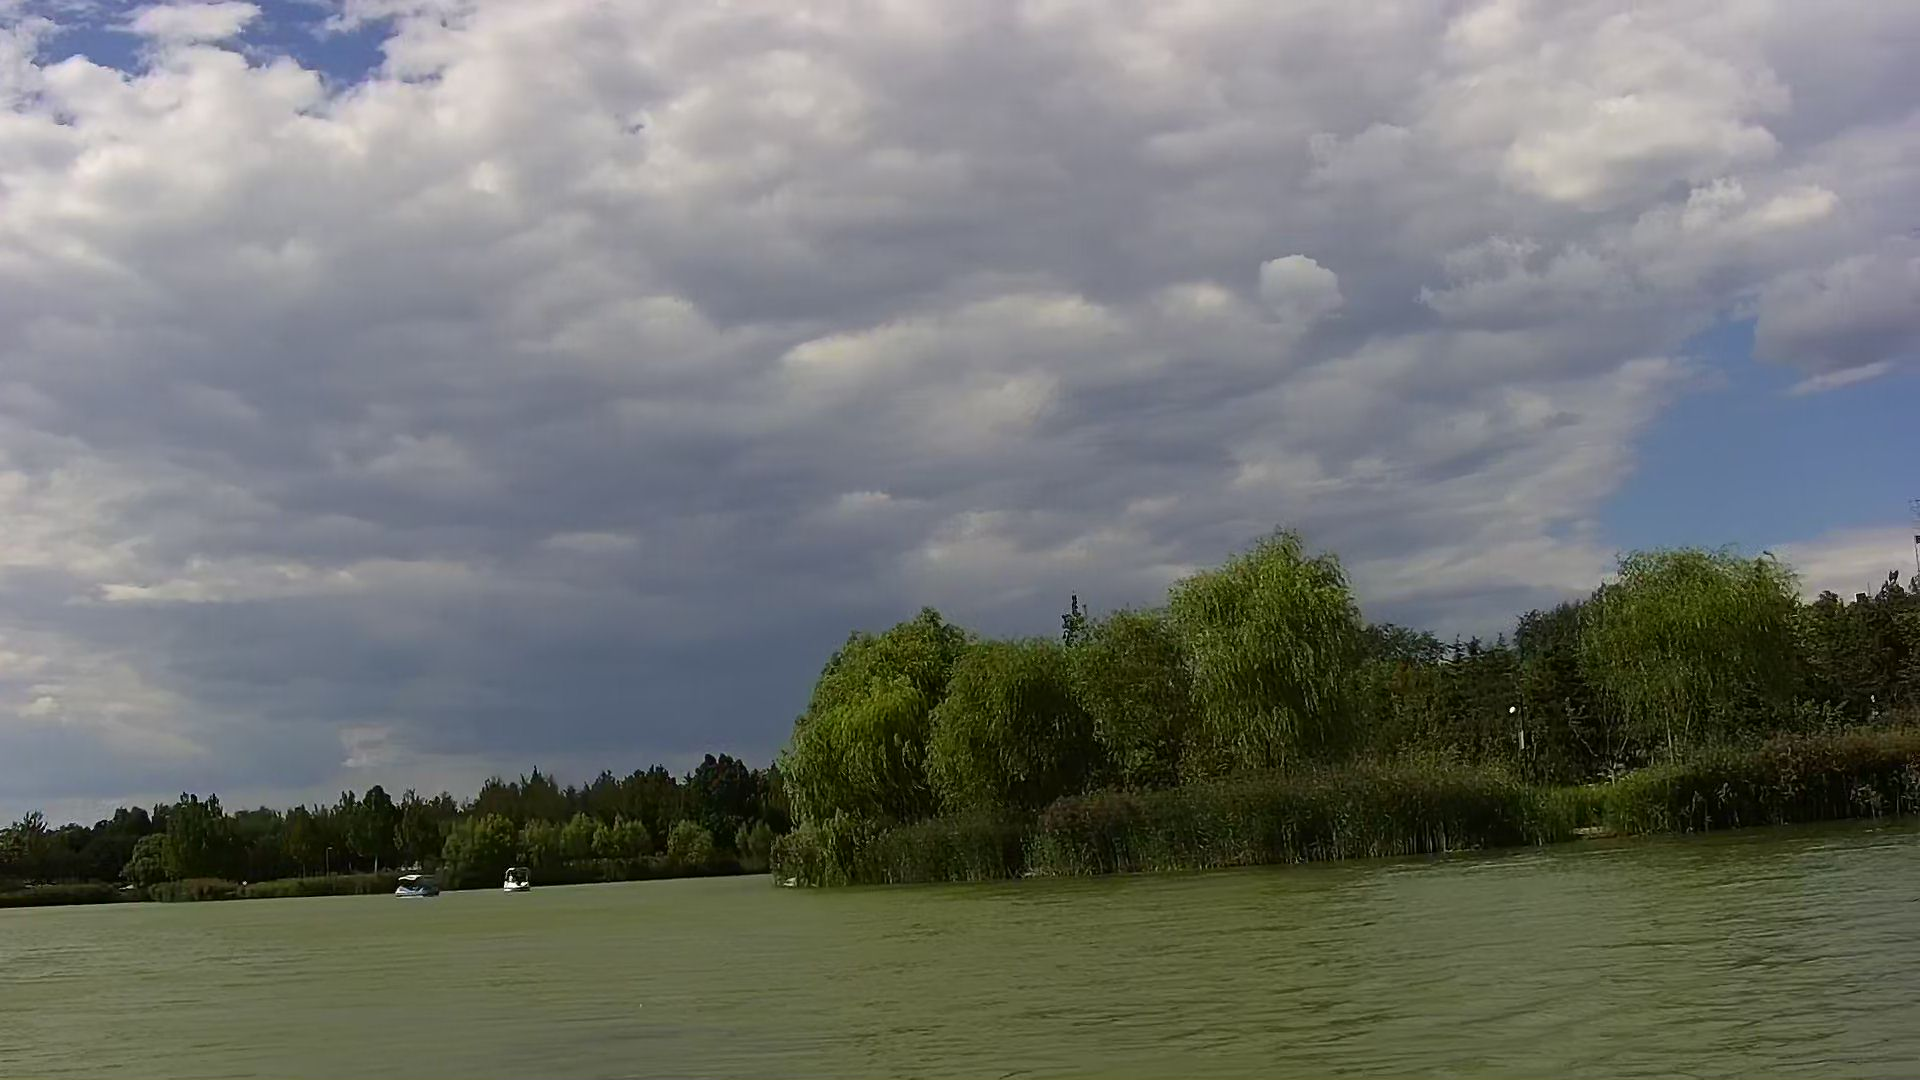boat: (390, 872, 440, 901), (501, 865, 539, 891)
